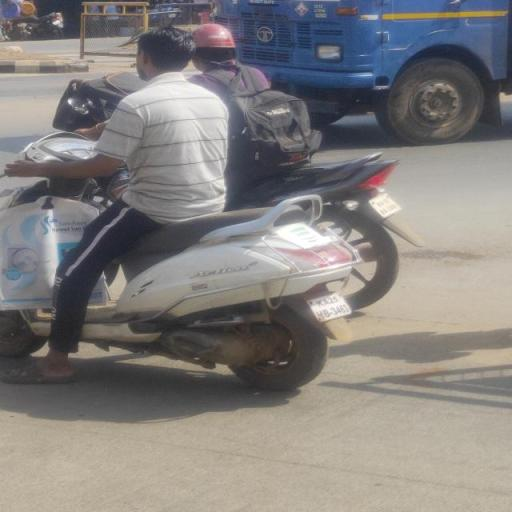bike: (3, 22, 365, 384)
numberplate: (300, 280, 353, 328)
withouthelmet: (140, 28, 192, 72)
